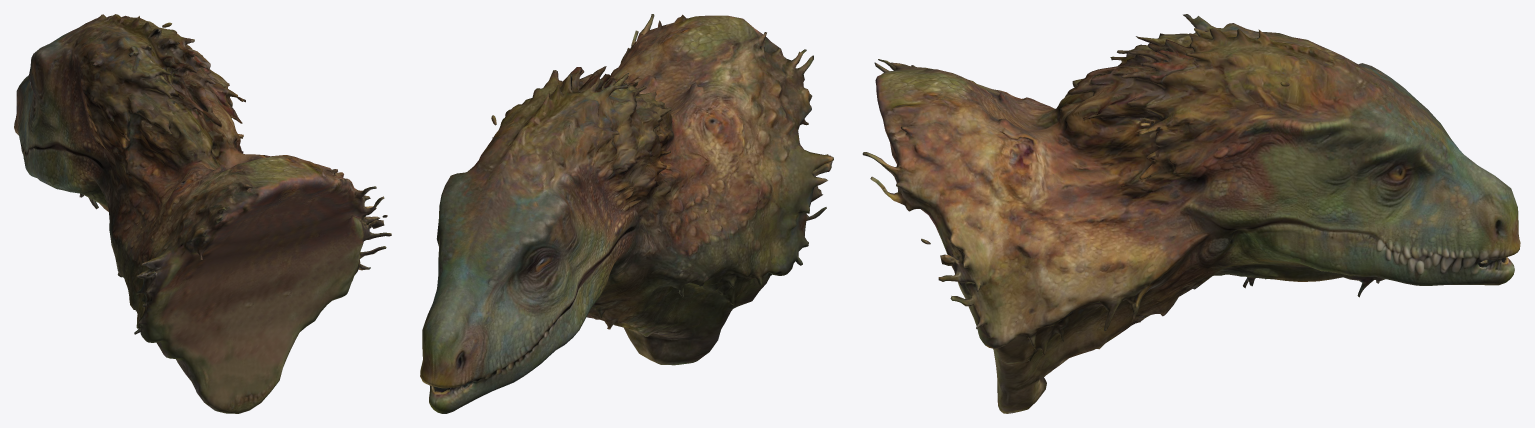
File: 04 Heterodontosauridae 3D.glb
3 views of the same model, side by side, from view 1: azimuth 30°, elevation 25°; view 2: azimuth 150°, elevation 25°; view 3: azimuth 270°, elevation 25° (orthographic). The views are drawn at different scales.
Visible parts, largest first — view 1: Mesh0; view 2: Mesh0; view 3: Mesh0.
Boxes of the visible parts, left/top/right/bottom form: Mesh0: left=14, top=14, right=391, bottom=413; Mesh0: left=420, top=14, right=833, bottom=413; Mesh0: left=862, top=14, right=1520, bottom=413.
Bounding box in the file's own units: 8.46 × 10.48 × 16.29.
Materials: 1 (1 with a texture image).
